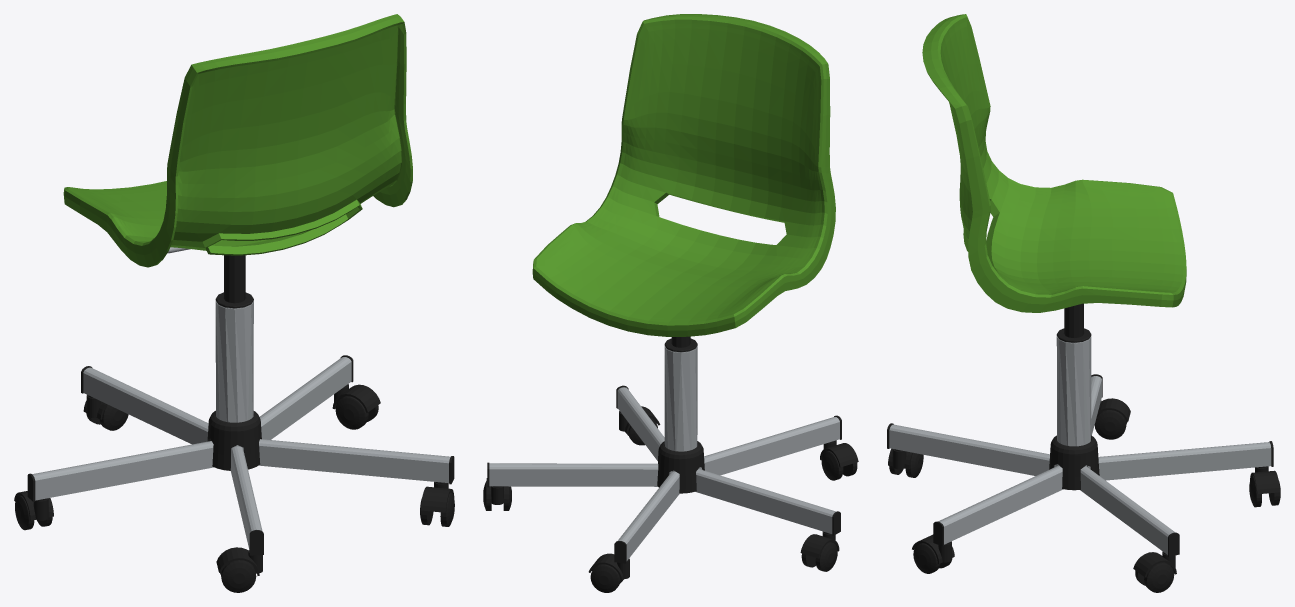
3 views of the same model, side by side, from view 1: azimuth 30°, elevation 25°; view 2: azimuth 150°, elevation 25°; view 3: azimuth 270°, elevation 25° (orthographic). The views are drawn at different scales.
Visible parts, largest first — view 1: Mesh2 Group2 SNILLE_IKEA1 Model, Mesh8 Group6 SNILLE_IKEA1 Model, Mesh7 Group5 SNILLE_IKEA1 Model, Mesh1 Group1 SNILLE_IKEA1 Model, Mesh3 Group3 SNILLE_IKEA1 Model, Mesh20 ROULETTE4 SNILLE_IKEA1 Model, Mesh16 ROULETTE3 SNILLE_IKEA1 Model, Mesh12 ROULETTE2 SNILLE_IKEA1 Model, Mesh15 ROULETTE3 SNILLE_IKEA1 Model, Mesh18 ROULETTE4 SNILLE_IKEA1 Model, Mesh9 ROULETTE1 SNILLE_IKEA1 Model; view 2: Mesh2 Group2 SNILLE_IKEA1 Model, Mesh8 Group6 SNILLE_IKEA1 Model, Mesh7 Group5 SNILLE_IKEA1 Model, Mesh1 Group1 SNILLE_IKEA1 Model, Mesh23 ROULETTE5 SNILLE_IKEA1 Model, Mesh9 ROULETTE1 SNILLE_IKEA1 Model, Mesh18 ROULETTE4 SNILLE_IKEA1 Model; view 3: Mesh2 Group2 SNILLE_IKEA1 Model, Mesh8 Group6 SNILLE_IKEA1 Model, Mesh7 Group5 SNILLE_IKEA1 Model, Mesh1 Group1 SNILLE_IKEA1 Model, Mesh3 Group3 SNILLE_IKEA1 Model, Mesh10 ROULETTE1 SNILLE_IKEA1 Model, Mesh17 ROULETTE3 SNILLE_IKEA1 Model, Mesh21 ROULETTE5 SNILLE_IKEA1 Model, Mesh15 ROULETTE3 SNILLE_IKEA1 Model, Mesh14 ROULETTE2 SNILLE_IKEA1 Model, Mesh12 ROULETTE2 SNILLE_IKEA1 Model.
Boxes of the visible parts, x1,y1,x2,y2 form: Mesh2 Group2 SNILLE_IKEA1 Model: (63, 14, 412, 267); Mesh8 Group6 SNILLE_IKEA1 Model: (27, 355, 454, 555); Mesh7 Group5 SNILLE_IKEA1 Model: (215, 301, 253, 422); Mesh1 Group1 SNILLE_IKEA1 Model: (207, 410, 261, 470); Mesh3 Group3 SNILLE_IKEA1 Model: (215, 255, 253, 308); Mesh20 ROULETTE4 SNILLE_IKEA1 Model: (221, 560, 256, 592); Mesh16 ROULETTE3 SNILLE_IKEA1 Model: (335, 396, 368, 429); Mesh12 ROULETTE2 SNILLE_IKEA1 Model: (420, 482, 454, 512); Mesh15 ROULETTE3 SNILLE_IKEA1 Model: (332, 384, 380, 412); Mesh18 ROULETTE4 SNILLE_IKEA1 Model: (216, 547, 262, 575); Mesh9 ROULETTE1 SNILLE_IKEA1 Model: (14, 491, 53, 520); Mesh2 Group2 SNILLE_IKEA1 Model: (532, 14, 835, 336); Mesh8 Group6 SNILLE_IKEA1 Model: (487, 385, 841, 563); Mesh7 Group5 SNILLE_IKEA1 Model: (664, 346, 697, 451); Mesh1 Group1 SNILLE_IKEA1 Model: (657, 441, 704, 493); Mesh23 ROULETTE5 SNILLE_IKEA1 Model: (590, 564, 620, 592); Mesh9 ROULETTE1 SNILLE_IKEA1 Model: (800, 531, 839, 558); Mesh18 ROULETTE4 SNILLE_IKEA1 Model: (820, 440, 858, 467); Mesh2 Group2 SNILLE_IKEA1 Model: (922, 14, 1186, 312); Mesh8 Group6 SNILLE_IKEA1 Model: (887, 374, 1273, 556); Mesh7 Group5 SNILLE_IKEA1 Model: (1056, 336, 1091, 446); Mesh1 Group1 SNILLE_IKEA1 Model: (1049, 435, 1099, 490); Mesh3 Group3 SNILLE_IKEA1 Model: (1056, 303, 1091, 342); Mesh10 ROULETTE1 SNILLE_IKEA1 Model: (1094, 410, 1126, 439); Mesh17 ROULETTE3 SNILLE_IKEA1 Model: (1144, 562, 1174, 592); Mesh21 ROULETTE5 SNILLE_IKEA1 Model: (1250, 466, 1279, 494); Mesh15 ROULETTE3 SNILLE_IKEA1 Model: (1133, 551, 1176, 577); Mesh14 ROULETTE2 SNILLE_IKEA1 Model: (913, 543, 939, 573); Mesh12 ROULETTE2 SNILLE_IKEA1 Model: (912, 534, 954, 563).
Bounding box in the file's own units: 0.5948 × 0.7671 × 0.5888.
